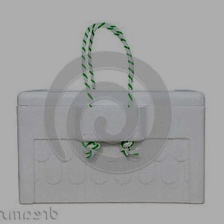foam_box: (12, 18, 213, 208)
